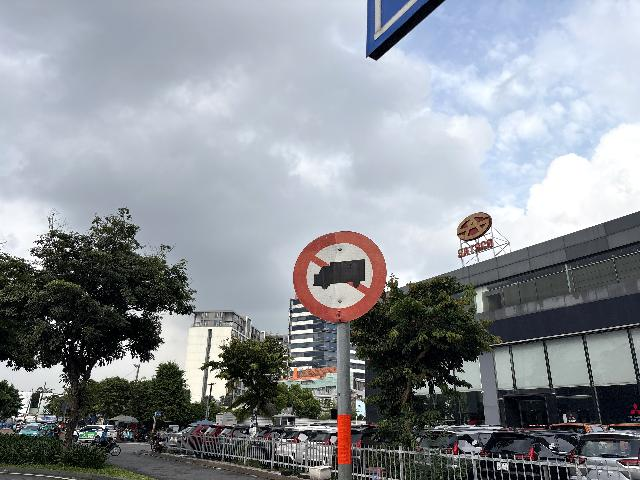cam-xe-tai: (293, 231, 387, 323)
